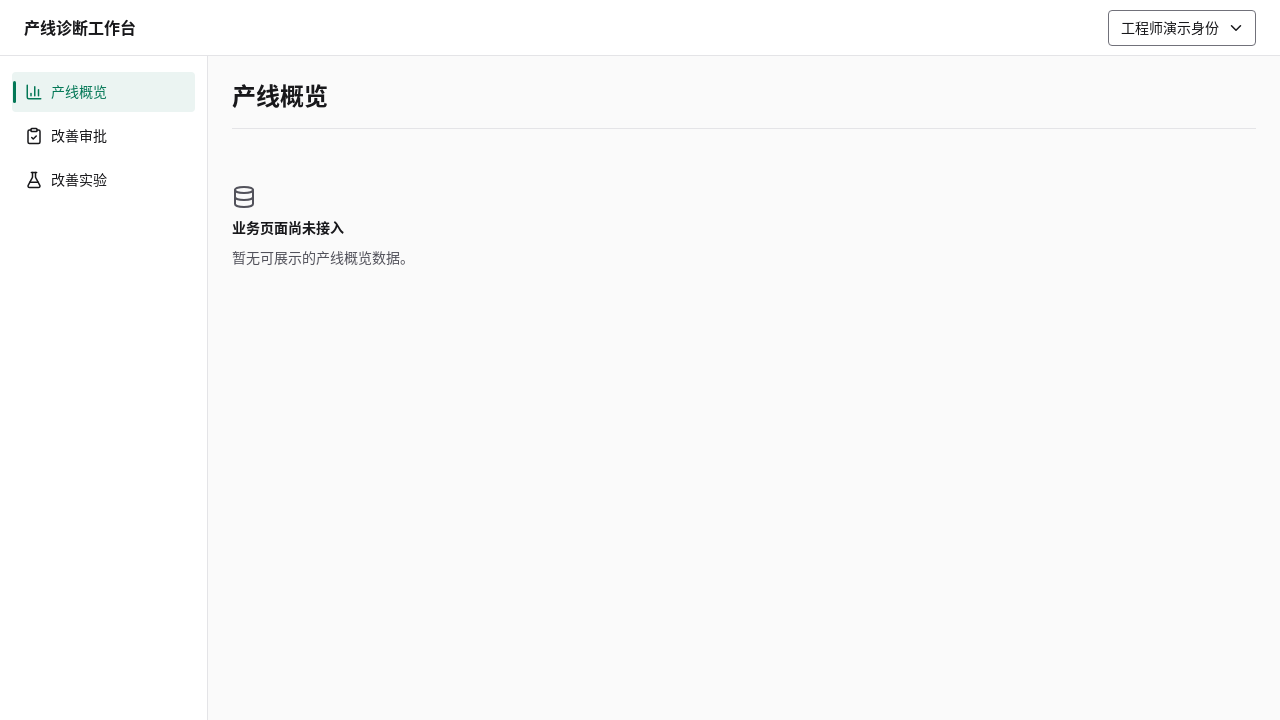
WorkbenchApp app-shell › navigates by keyboard-operable buttons without losing the shell
This screenshot has width=1280, height=720.
What coordinates should you click on to do the following:
click the button "改善审批"
I would click on:
 (104, 136)
Its box is x1=12 y1=116 x2=195 y2=156.
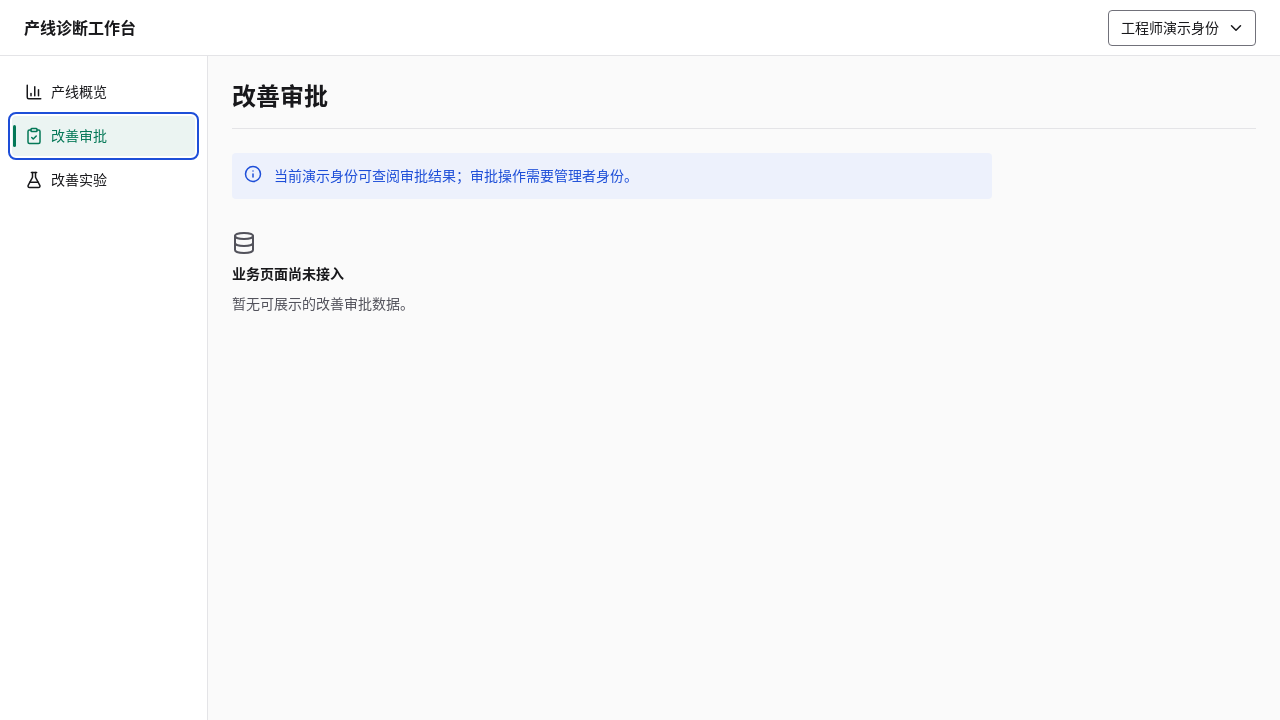
Check: the button "工程师演示身份" is shown, box x1=1108 y1=10 x2=1256 y2=46
Check: the heading "改善审批" is shown, box x1=232 y1=80 x2=328 y2=112
